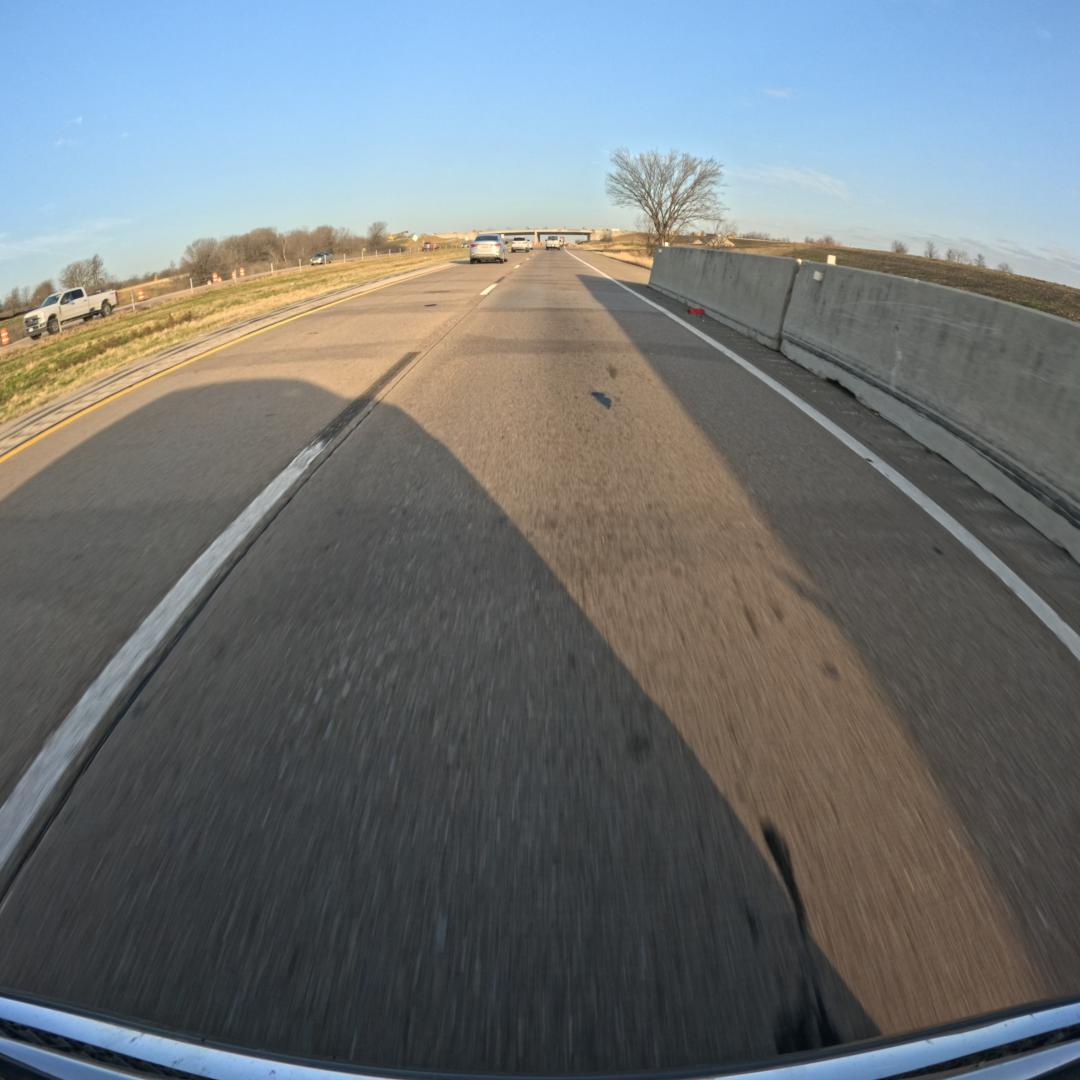lane0: (0, 252, 1080, 1074)
lane1: (0, 257, 520, 901)
